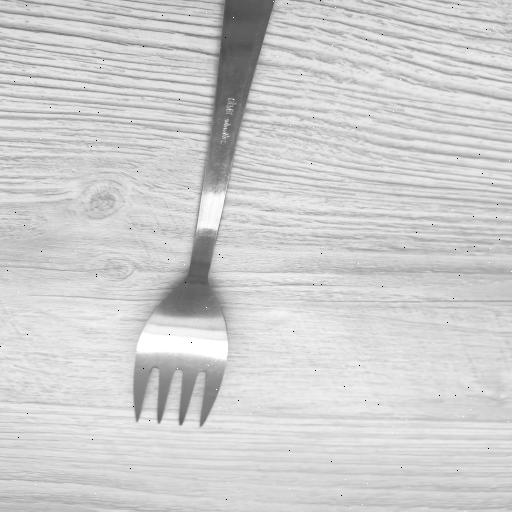fork: (131, 0, 278, 430)
